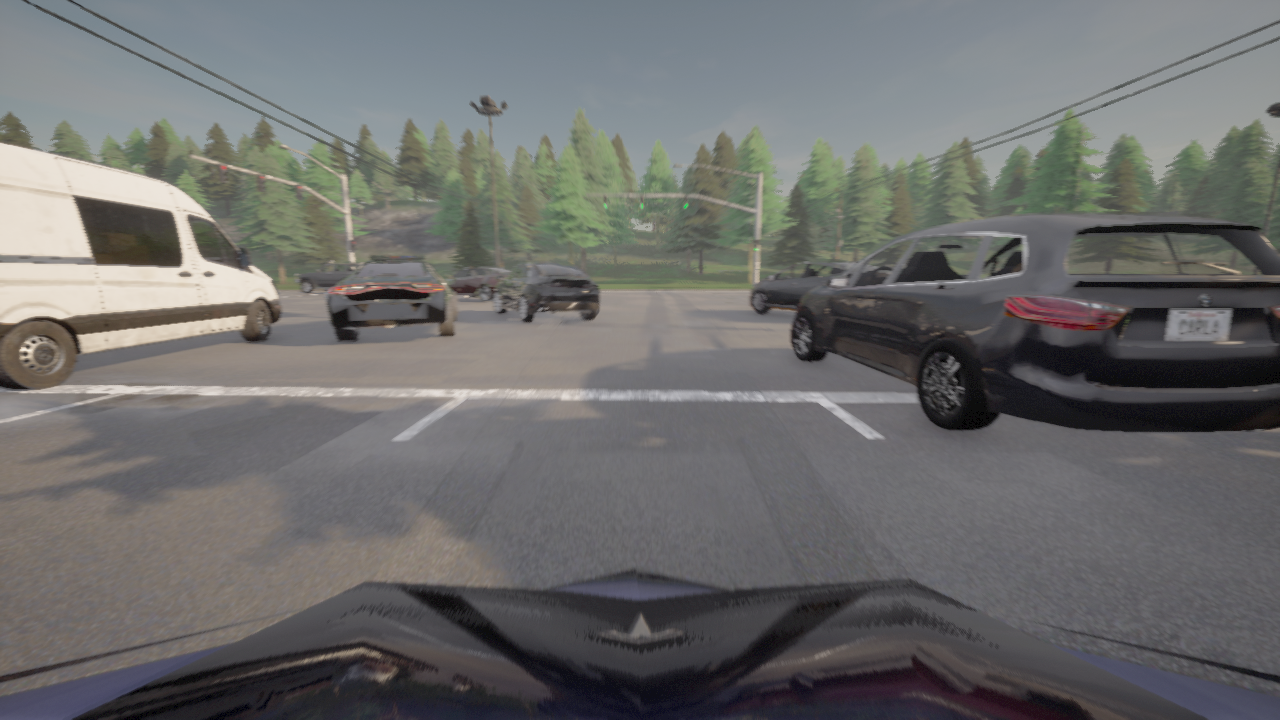cyclist: (0, 569, 1279, 719), (791, 214, 1279, 432), (325, 256, 457, 341), (493, 261, 599, 322), (750, 261, 855, 313), (443, 267, 511, 301), (295, 262, 364, 293)
